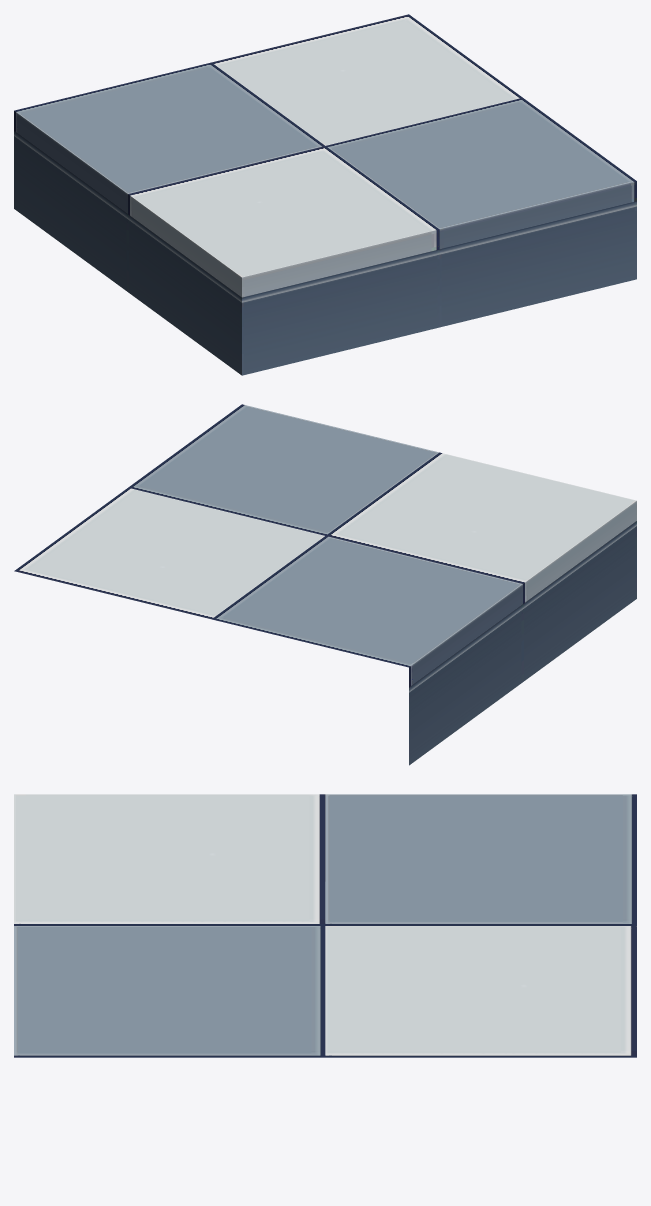
The model's file is my_gamedevdept_01_tile_2x2.glb.
3 renders of one model, top to bottom at view 1: azimuth 30°, elevation 25°; view 2: azimuth 150°, elevation 25°; view 3: azimuth 270°, elevation 25°, orthographic. The views are drawn at different scales.
Parts seen in each view (by area): view 1: my_gamedevdept_01_tile_2x2; view 2: my_gamedevdept_01_tile_2x2; view 3: my_gamedevdept_01_tile_2x2.
Boxes of the visible parts, x1,y1,x2,y2 form: my_gamedevdept_01_tile_2x2: [14, 14, 636, 375]; my_gamedevdept_01_tile_2x2: [14, 404, 636, 765]; my_gamedevdept_01_tile_2x2: [14, 794, 636, 1057].
Bounding box in the file's own units: 0.012 × 0.00285 × 0.012.
1 material, 1 textured.
